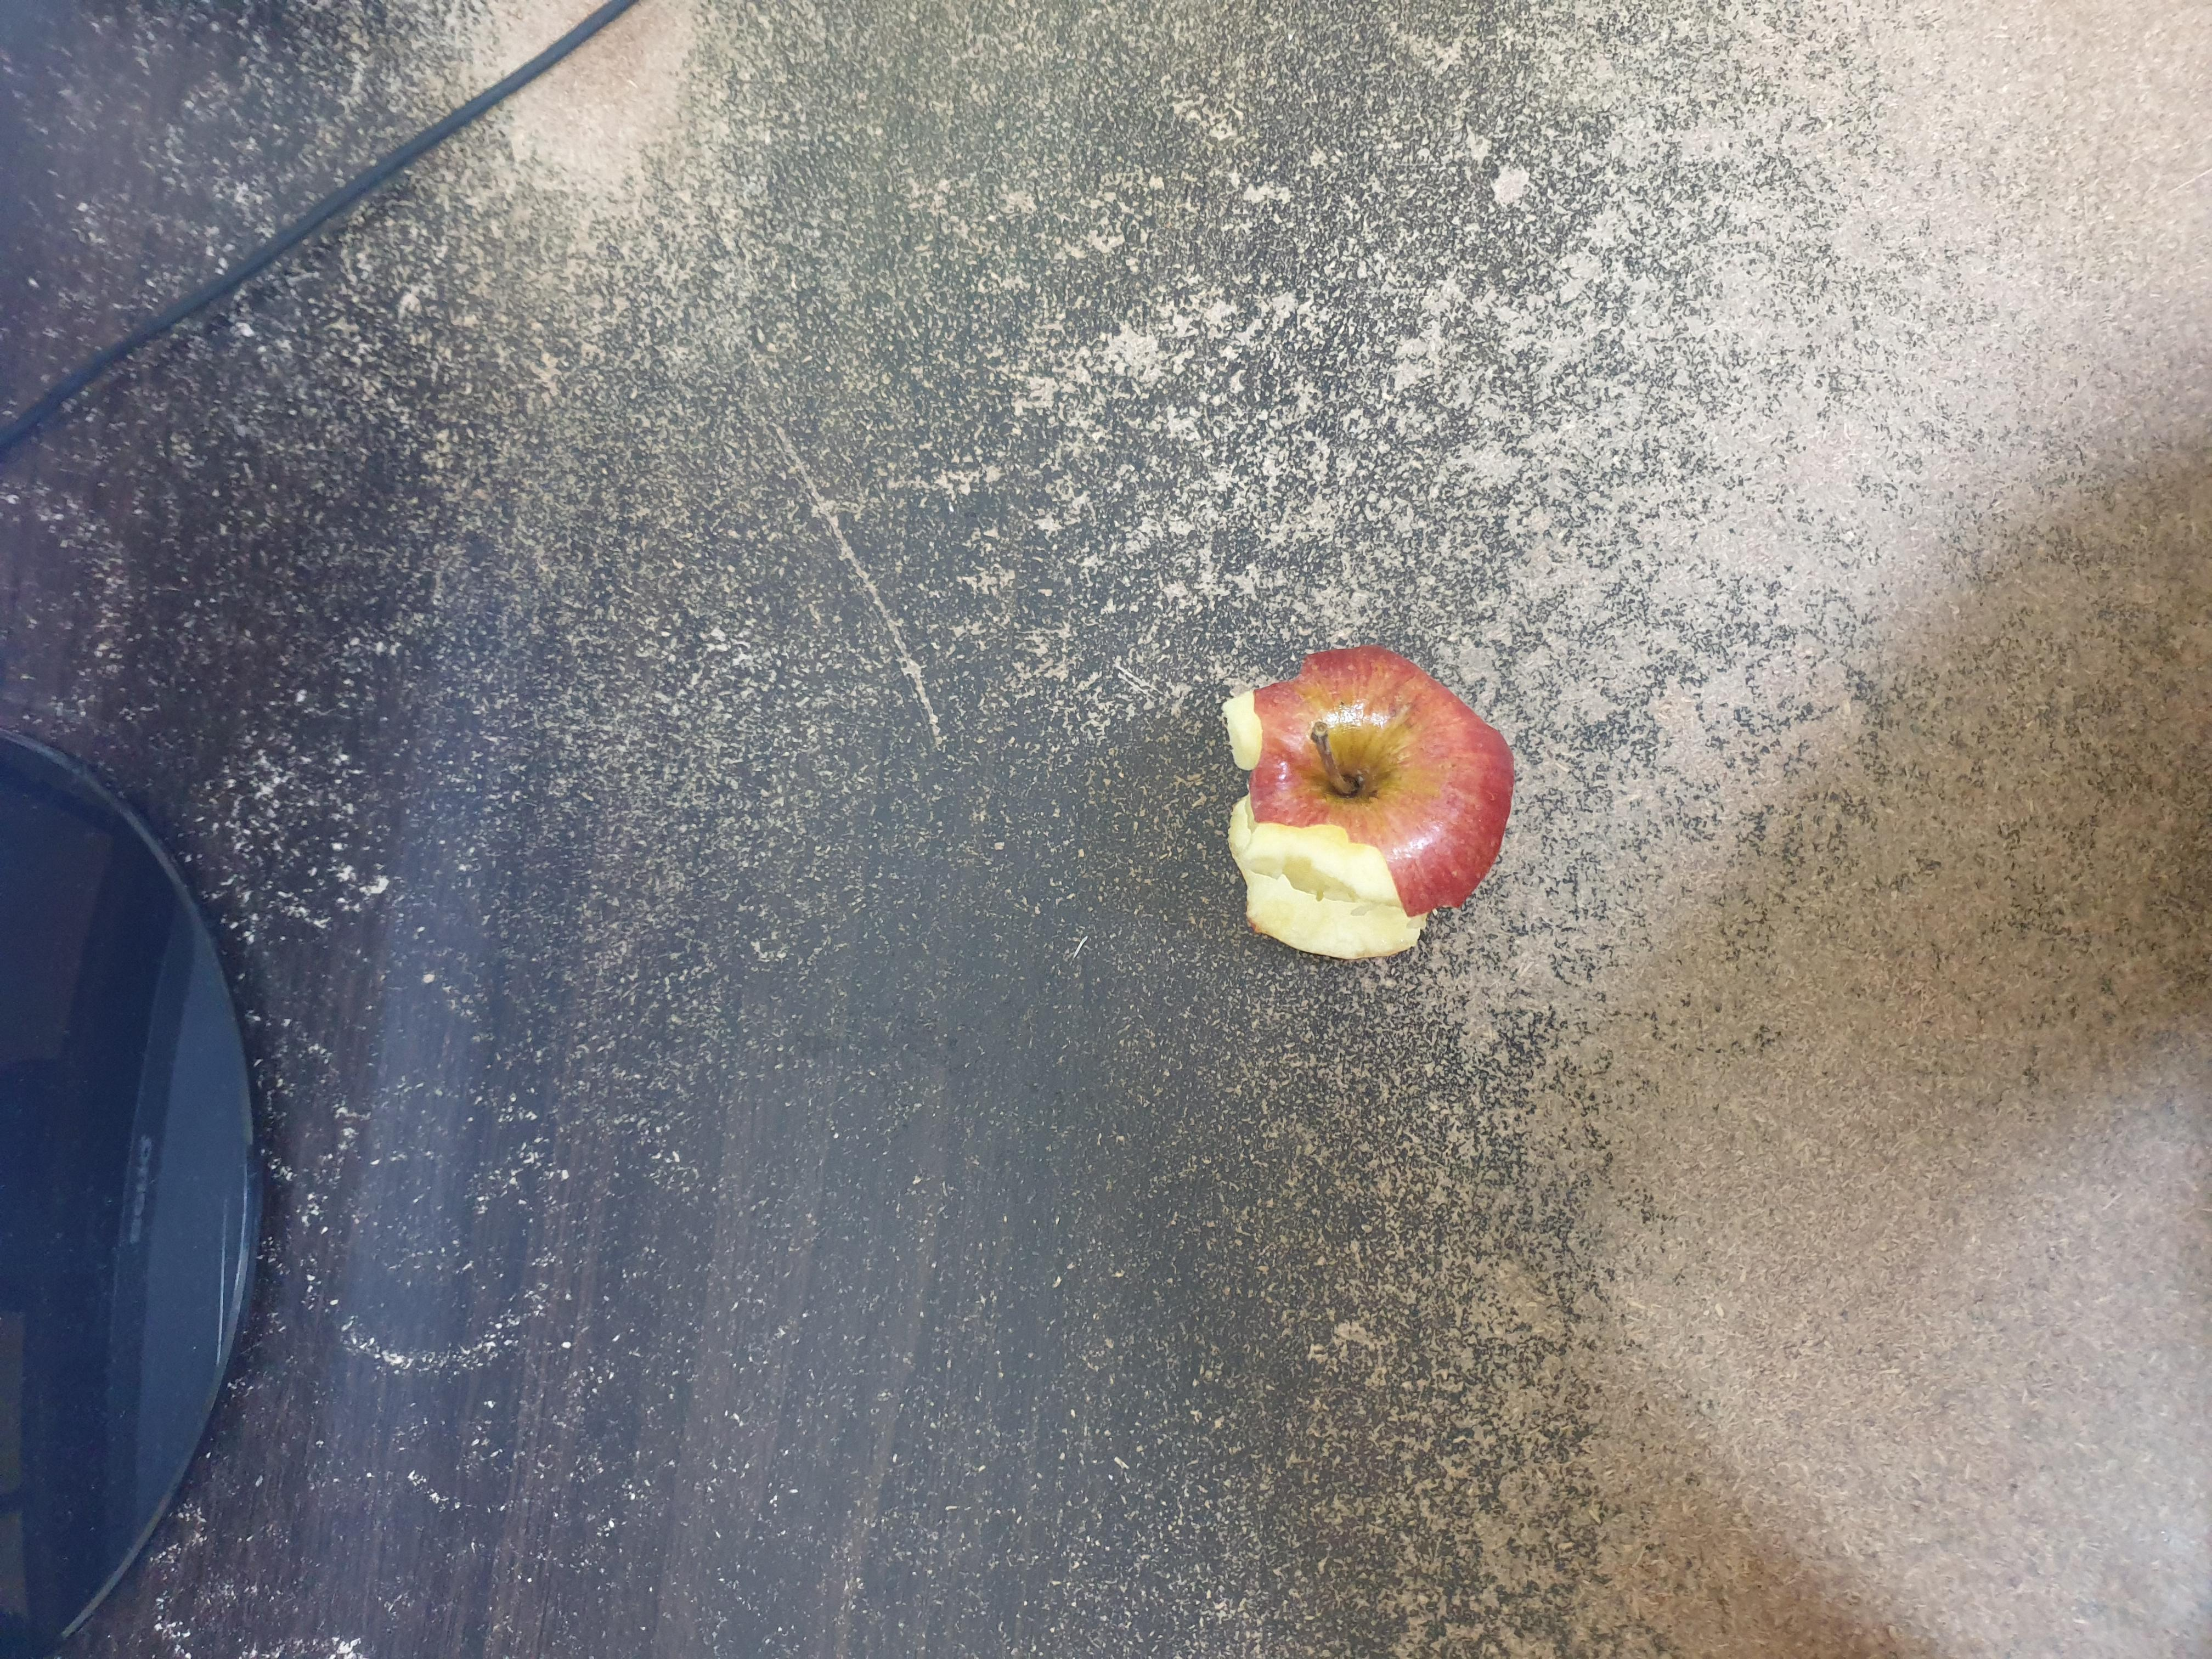Apple: (1160, 629, 1559, 985)
